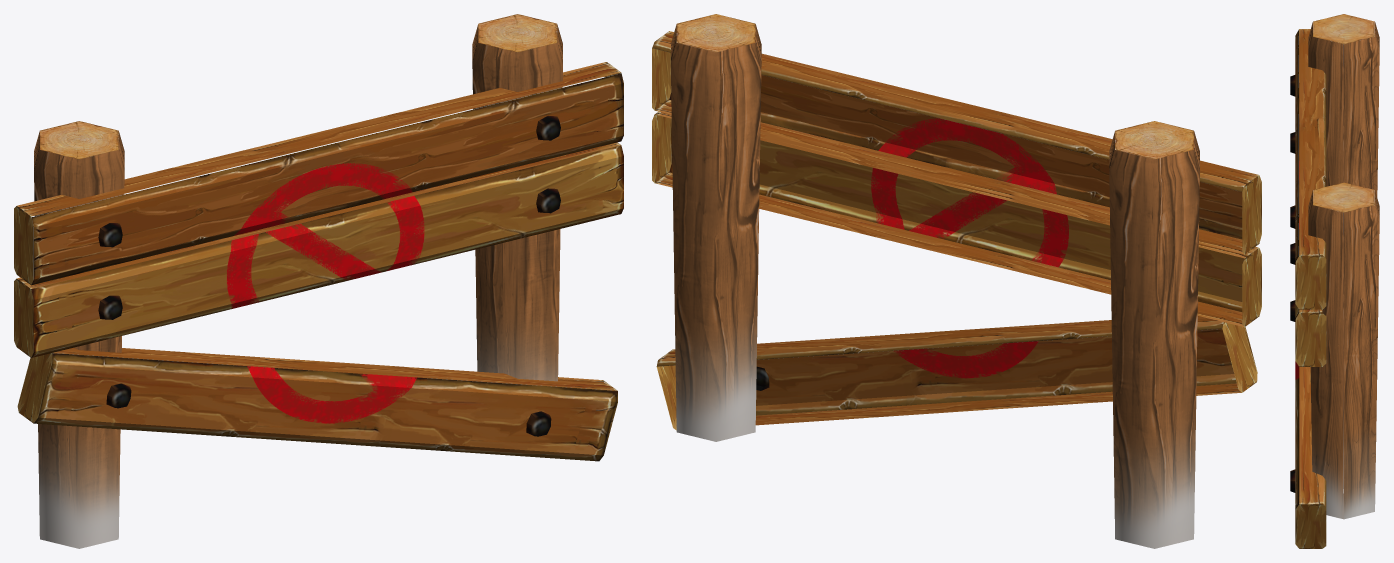
File: Danger_Sign_Broken.FBX
3 renders of one model, left to right at view 1: azimuth 30°, elevation 25°; view 2: azimuth 150°, elevation 25°; view 3: azimuth 270°, elevation 25°, orthographic. The views are drawn at different scales.
Parts seen in each view (by area): view 1: Box206; view 2: Box206; view 3: Box206.
Part boxes in pixels (box(x1,y1,x2,y2)): Box206: box(14, 14, 623, 548); Box206: box(652, 14, 1261, 548); Box206: box(1290, 14, 1379, 548).
Bounding box in the file's own units: 215 × 147 × 35.86.
